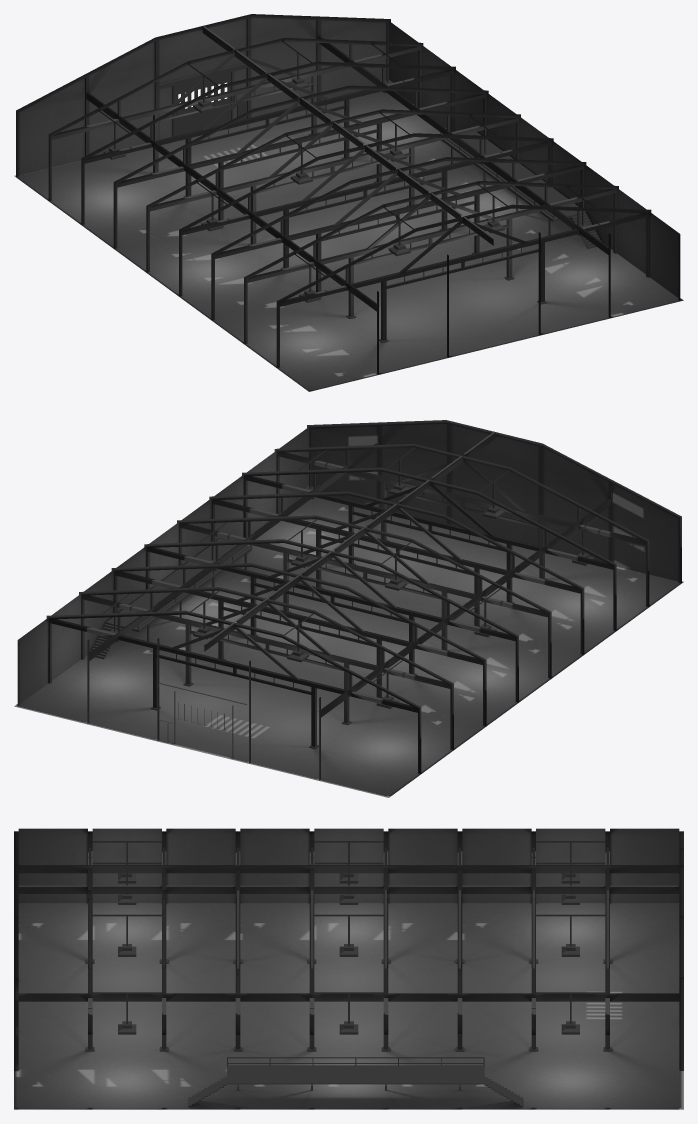
File: monument_warehouse.glb
3 renders of one model, top to bottom at view 1: azimuth 30°, elevation 25°; view 2: azimuth 150°, elevation 25°; view 3: azimuth 270°, elevation 25°, orthographic. The views are drawn at different scales.
Parts seen in each view (by area): view 1: _gltfNode_0; view 2: _gltfNode_0; view 3: _gltfNode_0.
Part boxes in pixels (<box>): _gltfNode_0: <box>14,14,683,391</box>; _gltfNode_0: <box>14,420,683,797</box>; _gltfNode_0: <box>14,828,683,1109</box>.
Bounding box in the file's own units: 43.21 × 11.67 × 58.93.
Materials: 1 (1 with a texture image).
